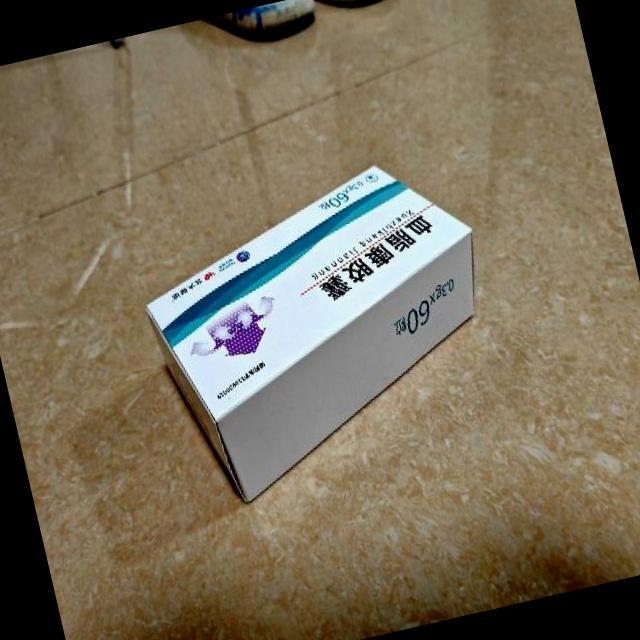box: (128, 146, 521, 514)
